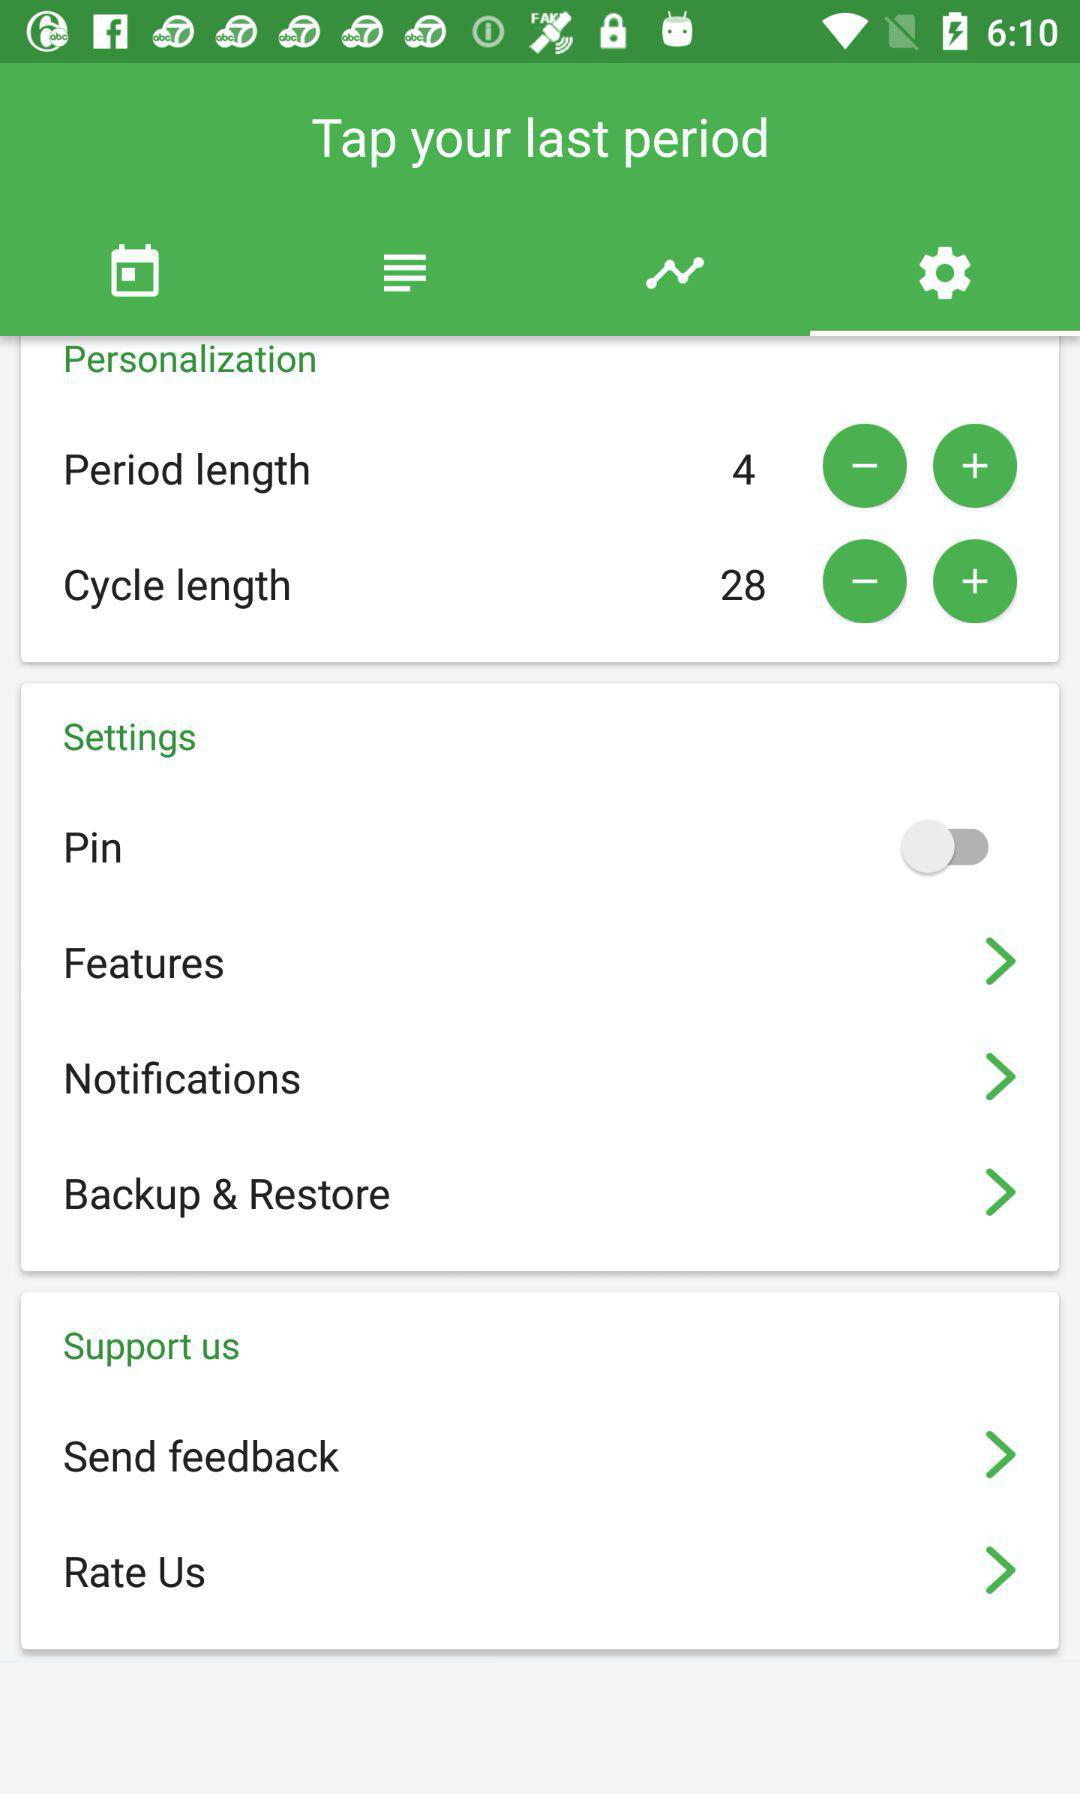Card: (19, 680, 1062, 1274), (19, 1289, 1062, 1652), (20, 337, 1063, 668)
Icon: (931, 539, 1019, 625), (931, 424, 1019, 510), (822, 539, 908, 625), (822, 424, 908, 510), (919, 247, 972, 301), (111, 243, 161, 299), (644, 256, 705, 291), (383, 252, 428, 293), (984, 1052, 1017, 1102), (984, 935, 1017, 985), (985, 1167, 1017, 1219), (985, 1429, 1017, 1479), (985, 1545, 1017, 1595)
Switch: (898, 818, 990, 876)
Text: (313, 117, 767, 170), (67, 1176, 391, 1219), (67, 454, 310, 495), (67, 568, 291, 611), (65, 1439, 341, 1472), (67, 1060, 301, 1096), (67, 343, 316, 375), (64, 1331, 240, 1369), (67, 947, 225, 980), (64, 721, 197, 759), (67, 1556, 206, 1588), (67, 832, 122, 865), (721, 569, 766, 604), (732, 454, 756, 486)
UpperTaskBar: (1, 1, 1080, 64)
